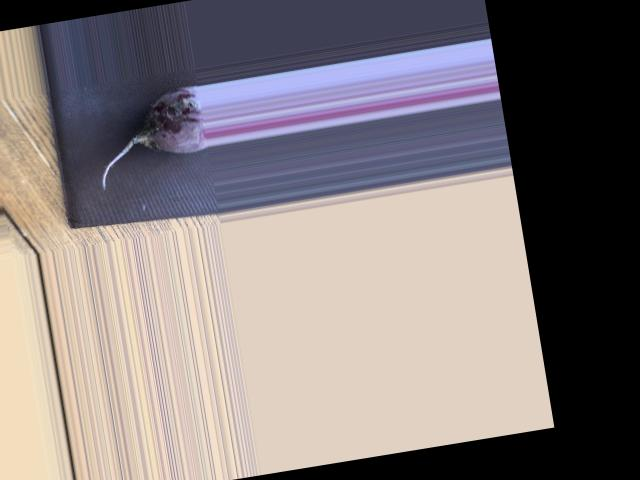beet: (88, 84, 211, 189)
